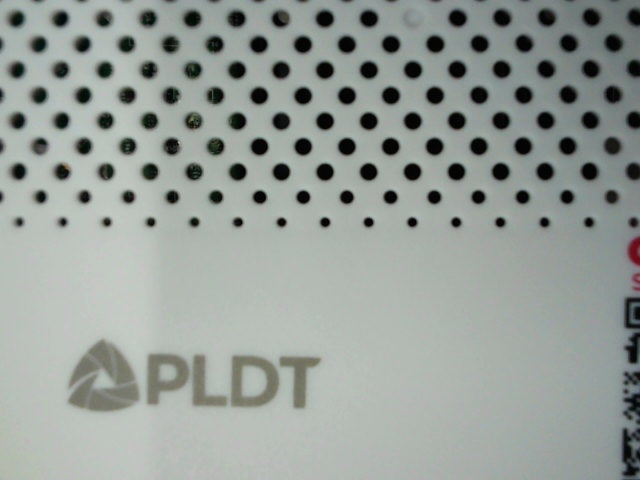BH_PLDT: (44, 330, 337, 428)
